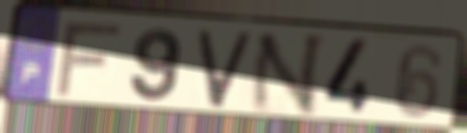4: (321, 35, 379, 121)
6: (392, 42, 444, 122)
9: (127, 25, 185, 106)
F: (51, 21, 127, 100)
N: (246, 31, 330, 117)
V: (195, 28, 257, 111)
